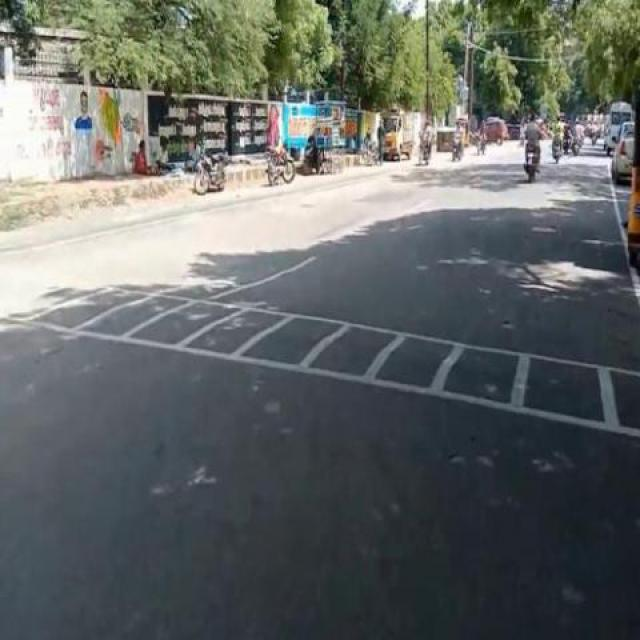Speed Bump: (1, 256, 639, 451)
